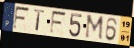5: (68, 12, 84, 38)
6: (104, 17, 118, 43)
F: (49, 10, 68, 36), (12, 5, 31, 31)
M: (84, 14, 105, 42)
T: (33, 8, 46, 33)
